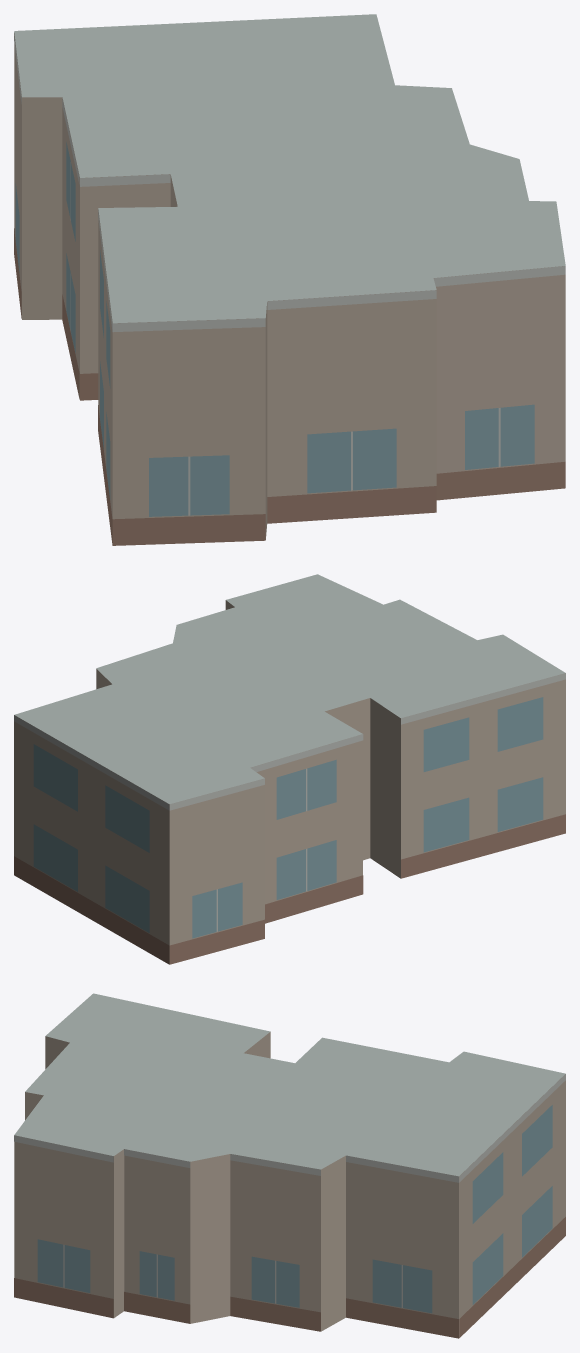
The model's file is survey-upis-32826816.glb.
3 renders of one model, top to bottom at view 1: azimuth 30°, elevation 25°; view 2: azimuth 150°, elevation 25°; view 3: azimuth 270°, elevation 25°, orthographic. The views are drawn at different scales.
Parts seen in each view (by area): view 1: survey-upis-32826816.tmp; view 2: survey-upis-32826816.tmp; view 3: survey-upis-32826816.tmp.
Boxes of the visible parts, x1,y1,x2,y2 form: survey-upis-32826816.tmp: (14,14,565,545); survey-upis-32826816.tmp: (14,574,565,964); survey-upis-32826816.tmp: (14,993,565,1338).
Size of the model in its own units: 14.77 by 6.1 by 18.82.
